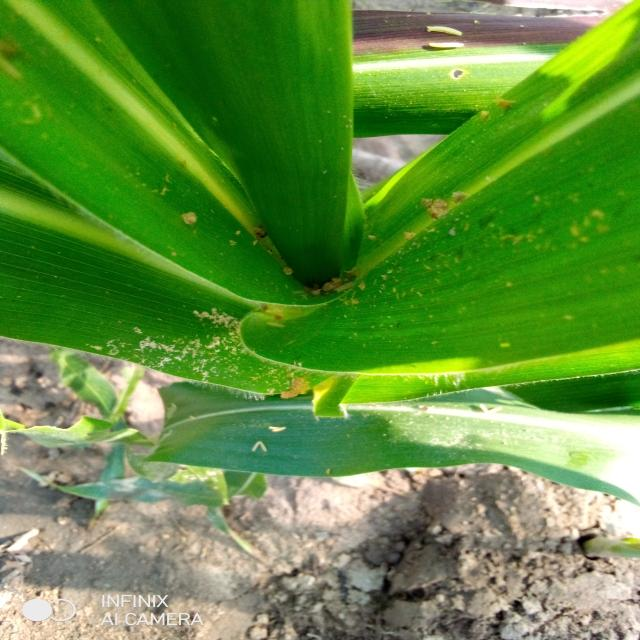fall-armyworm-egg: (353, 156, 635, 324), (100, 275, 375, 398), (118, 146, 336, 256)
